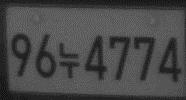4: (158, 37, 182, 84), (83, 36, 108, 81)
6: (35, 34, 57, 78)
7: (132, 35, 155, 82), (109, 34, 131, 83)
9: (10, 32, 32, 78)
누: (58, 41, 79, 79)
